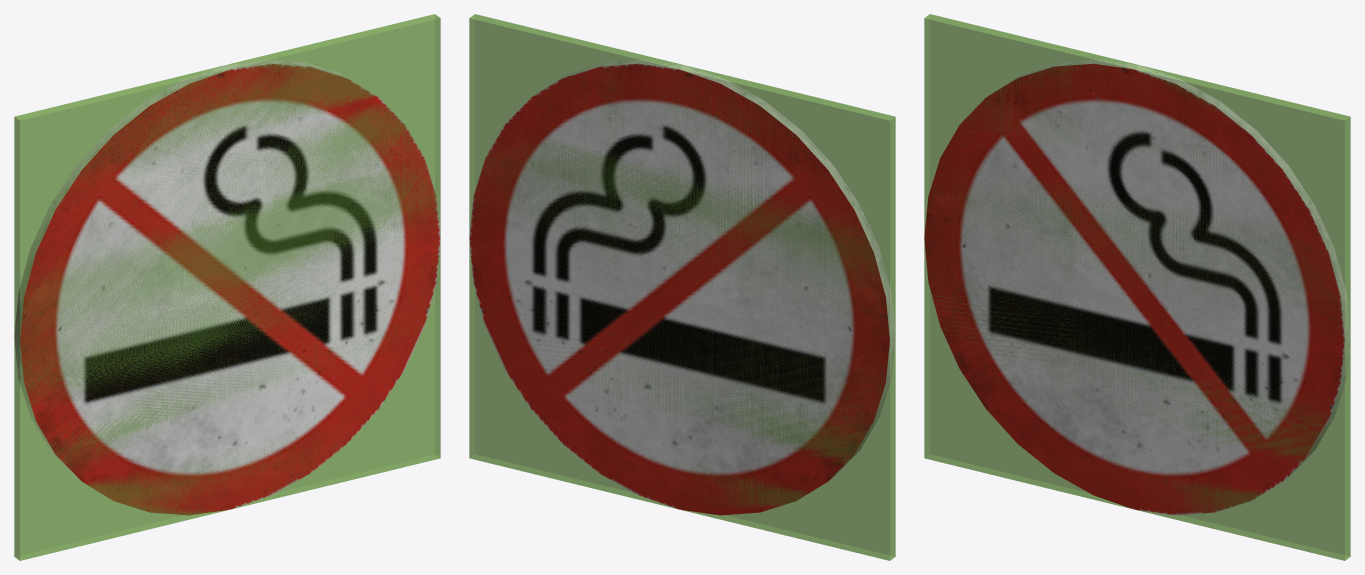
Rendered from p_GeneralSignage_03_a.fbx.
3 renders of one model, left to right at view 1: azimuth 30°, elevation 25°; view 2: azimuth 150°, elevation 25°; view 3: azimuth 330°, elevation 25°, orthographic.
Parts seen in each view (by area): view 1: p_GeneralSignage_03_a_LOD0, p_GeneralSignage_03_a_col; view 2: p_GeneralSignage_03_a_LOD0, p_GeneralSignage_03_a_col; view 3: p_GeneralSignage_03_a_LOD0, p_GeneralSignage_03_a_col.
Boxes of the visible parts, x1,y1,x2,y2 form: p_GeneralSignage_03_a_LOD0: [14, 59, 440, 515]; p_GeneralSignage_03_a_col: [14, 14, 440, 560]; p_GeneralSignage_03_a_LOD0: [469, 59, 895, 515]; p_GeneralSignage_03_a_col: [469, 14, 895, 560]; p_GeneralSignage_03_a_LOD0: [924, 59, 1350, 515]; p_GeneralSignage_03_a_col: [924, 14, 1350, 560].
Size of what is drawn, in the model's own units: 19.27 by 19.27 by 0.454.
